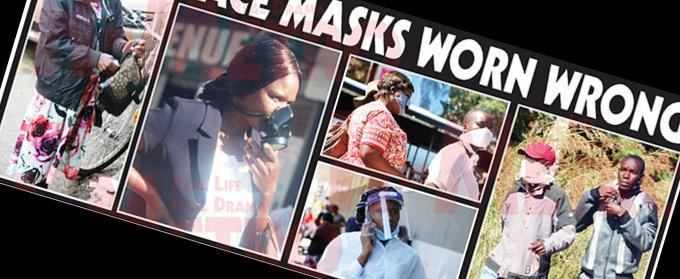mask_weared_incorrect: (365, 205, 412, 246)
with_mask: (259, 80, 301, 144), (513, 154, 552, 190), (465, 117, 498, 149), (390, 86, 419, 118)
without_mask: (614, 162, 643, 192)
